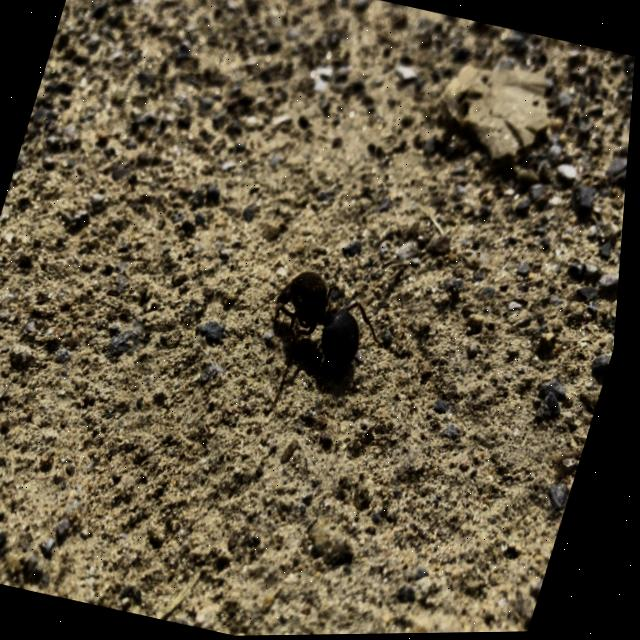Alive-Female-Dealate: (232, 262, 401, 424)
